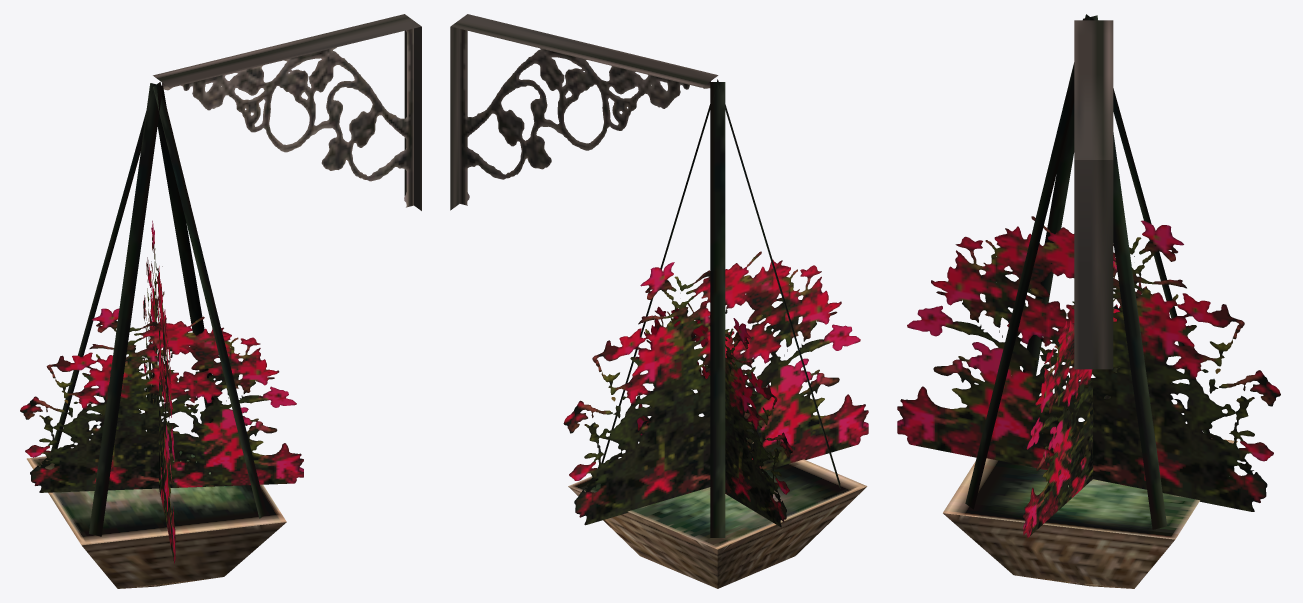
File: sfx_plant03.obj
3 renders of one model, left to right at view 1: azimuth 30°, elevation 25°; view 2: azimuth 150°, elevation 25°; view 3: azimuth 270°, elevation 25°, orthographic. The views are drawn at different scales.
Parts seen in each view (by area): view 1: sfx_plant03; view 2: sfx_plant03; view 3: sfx_plant03.
Boxes of the visible parts, bbox=[...] form: sfx_plant03: bbox=[20, 14, 421, 588]; sfx_plant03: bbox=[450, 14, 868, 588]; sfx_plant03: bbox=[897, 14, 1280, 588].
Bounding box in the file's own units: 1.28 × 1.65 × 1.03.
3 materials, 3 textured.
